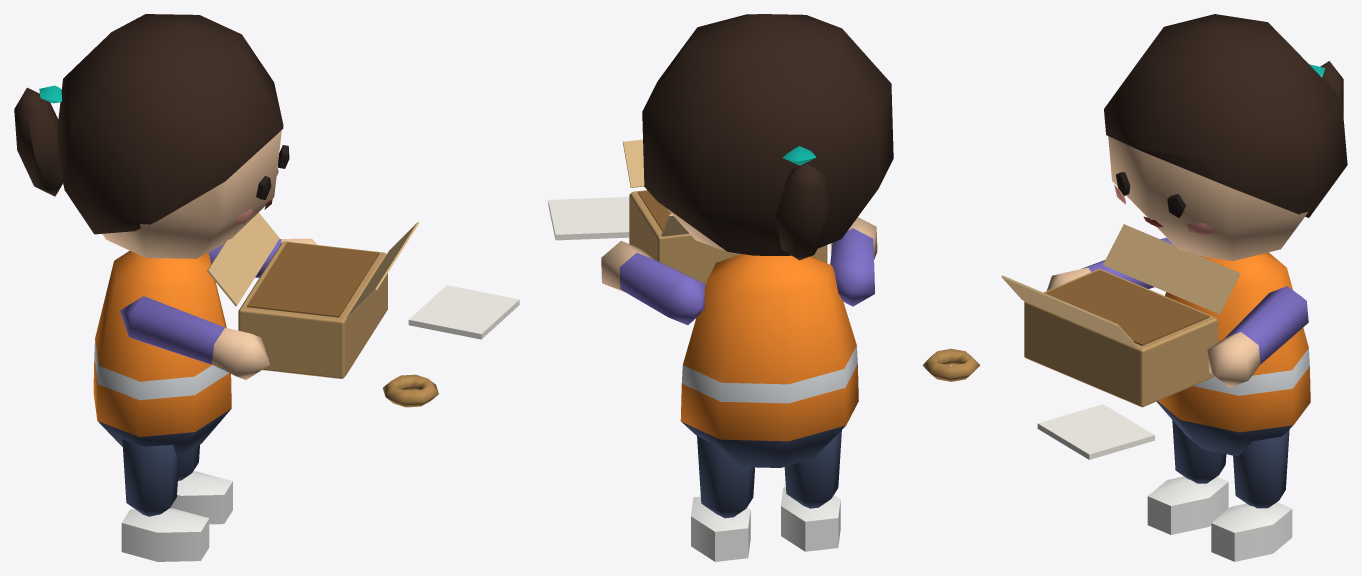
The model's file is station_processing_ausstattung_1_1.glb.
3 views of the same model, side by side, from view 1: azimuth 30°, elevation 25°; view 2: azimuth 150°, elevation 25°; view 3: azimuth 270°, elevation 25° (orthographic). The views are drawn at different scales.
Parts seen in each view (by area): view 1: station_processing_ausstattung_1_1; view 2: station_processing_ausstattung_1_1; view 3: station_processing_ausstattung_1_1.
Part boxes in pixels (x1=…): station_processing_ausstattung_1_1: x1=14, y1=14, x2=519, y2=561; station_processing_ausstattung_1_1: x1=548, y1=14, x2=893, y2=561; station_processing_ausstattung_1_1: x1=922, y1=14, x2=1347, y2=561.
Size of the model in its own units: 0.8909 by 1.12 by 0.8506.
